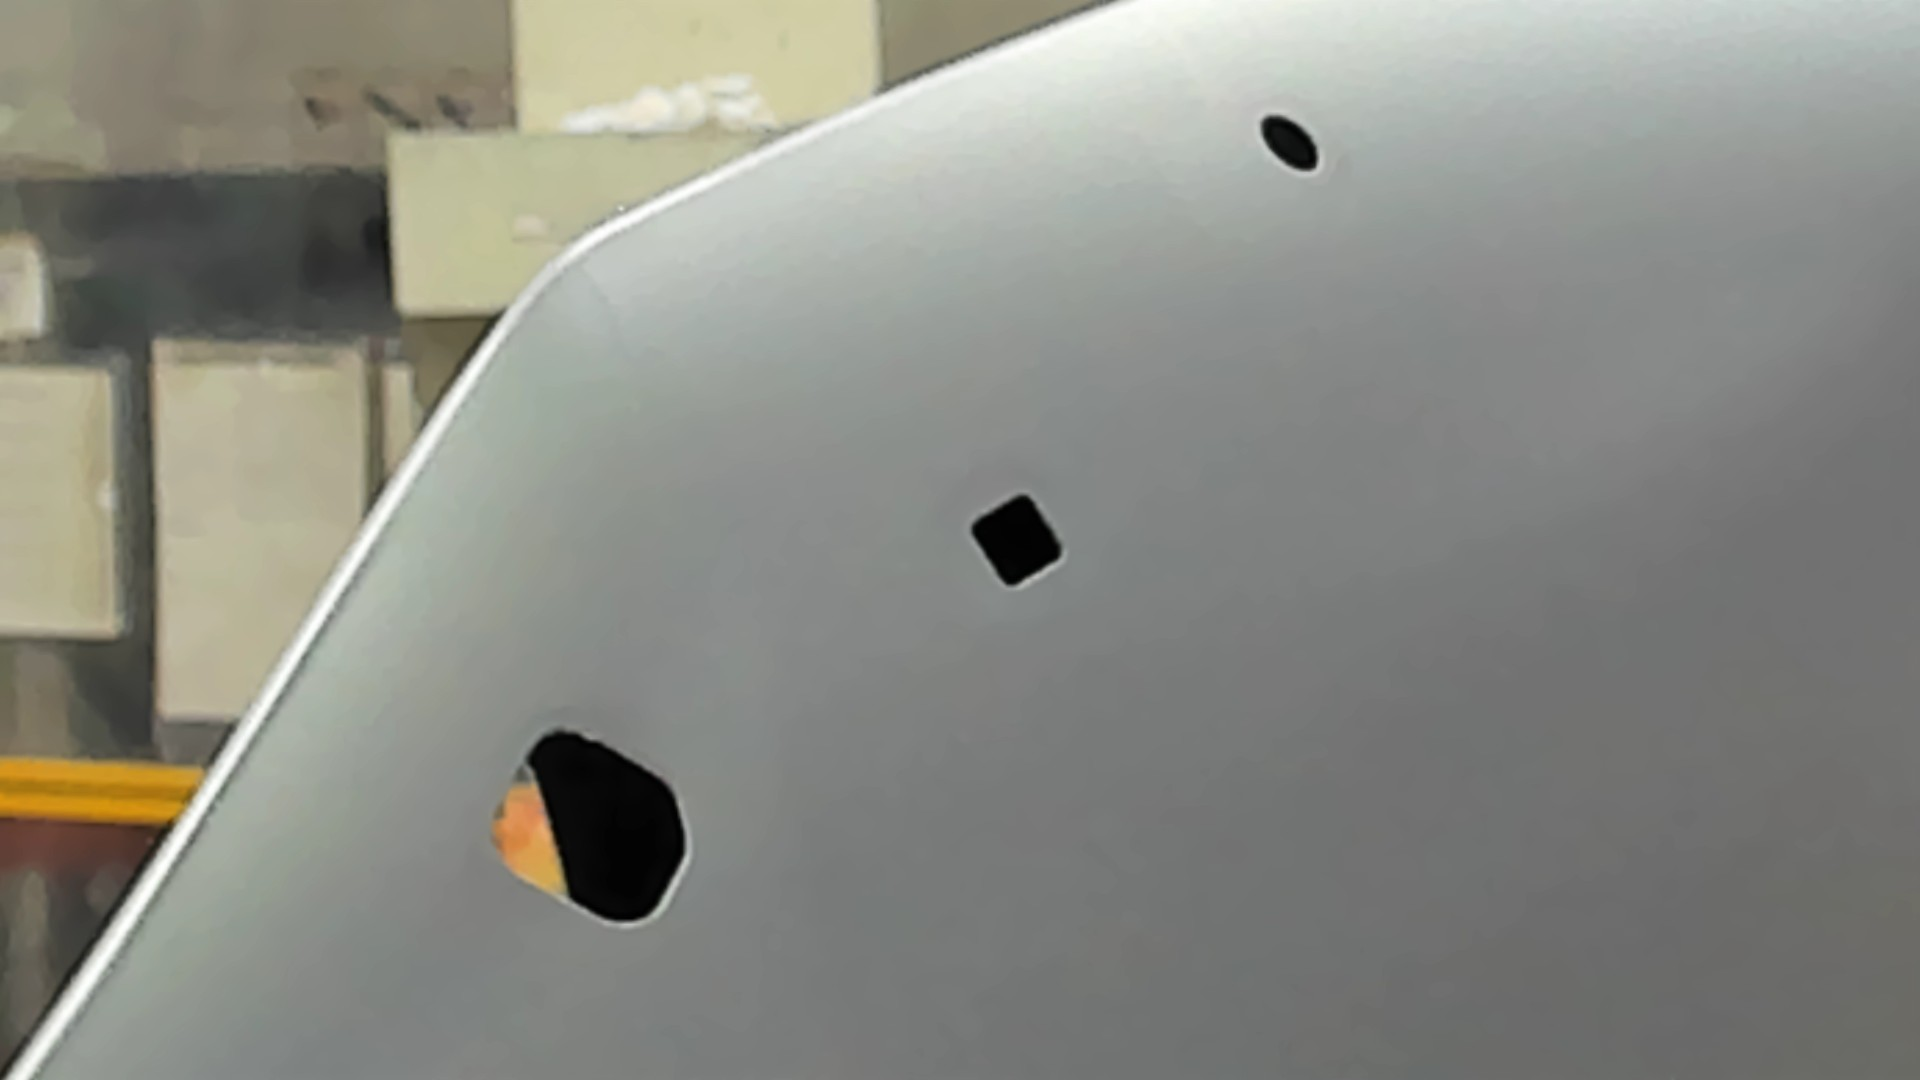chico: (1251, 105, 1324, 178)
grande: (477, 723, 700, 938)
mediano: (964, 488, 1067, 597)
